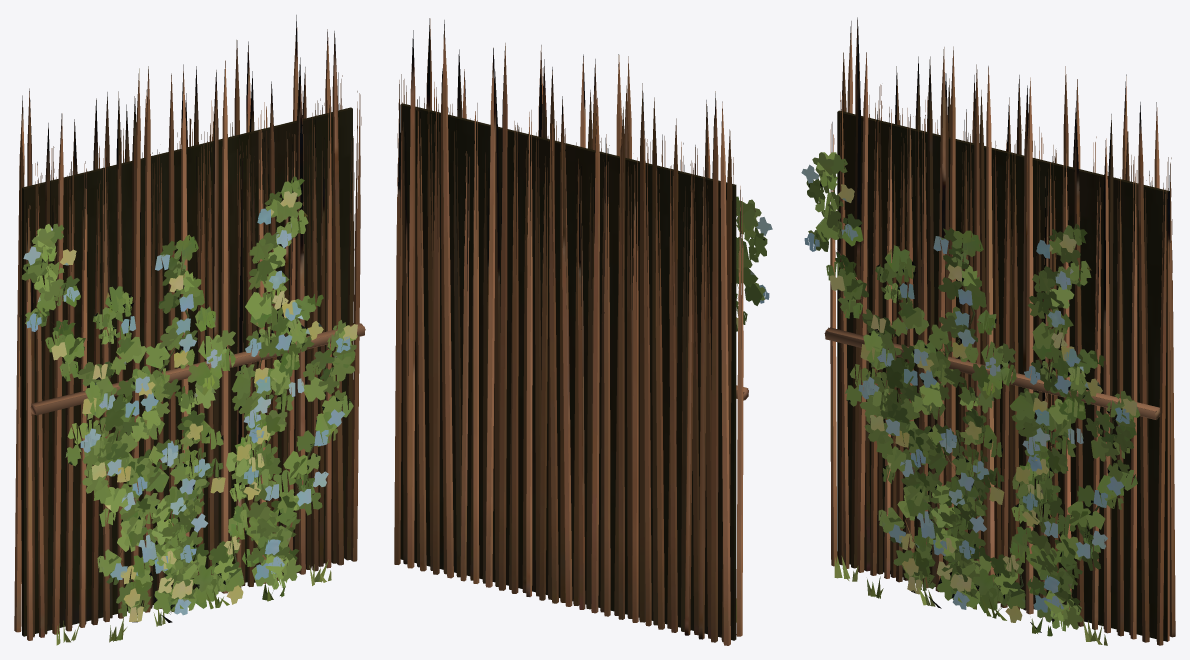
Rendered from fence_reed_flowers_hd.glb.
The picture shows the model from 3 angles, left to right: view 1: azimuth 30°, elevation 25°; view 2: azimuth 150°, elevation 25°; view 3: azimuth 330°, elevation 25°; orthographic projection.
Visible parts, largest first — view 1: fence_reed_flowers; view 2: fence_reed_flowers; view 3: fence_reed_flowers.
Part boxes in pixels (x1,y1,x2,y2): fence_reed_flowers: (14, 15, 365, 645); fence_reed_flowers: (394, 18, 772, 645); fence_reed_flowers: (801, 17, 1175, 645).
Bounding box in the file's own units: 1.07 × 1.6 × 0.2001.
Materials: 1 (1 with a texture image).
